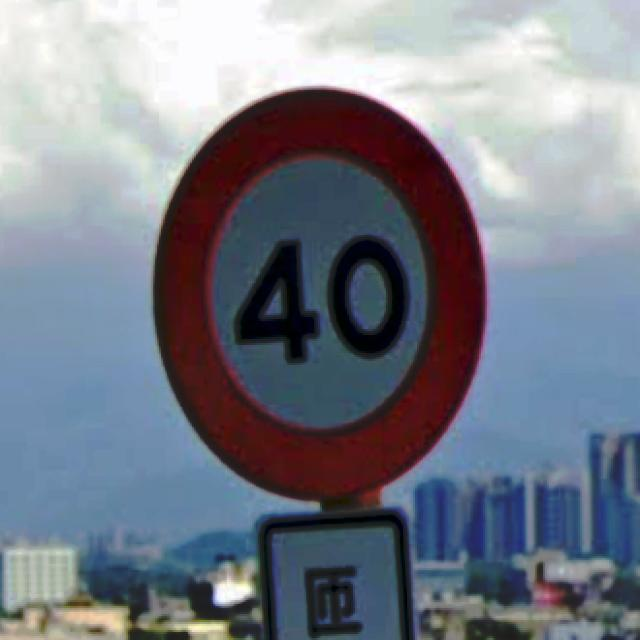max40: (147, 82, 489, 502)
